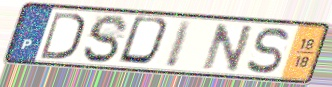D: (115, 14, 174, 68), (38, 10, 87, 62)
I: (162, 18, 195, 69)
N: (200, 22, 257, 74)
S: (80, 13, 131, 65), (244, 26, 291, 76)
